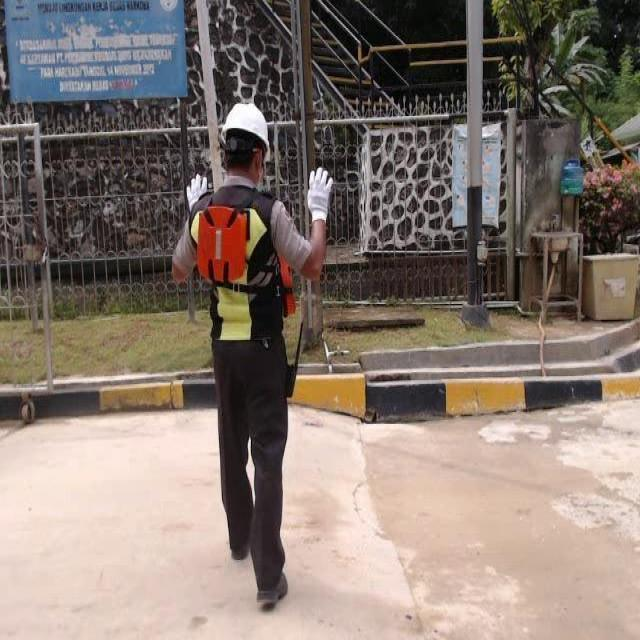vest: (195, 200, 251, 291)
